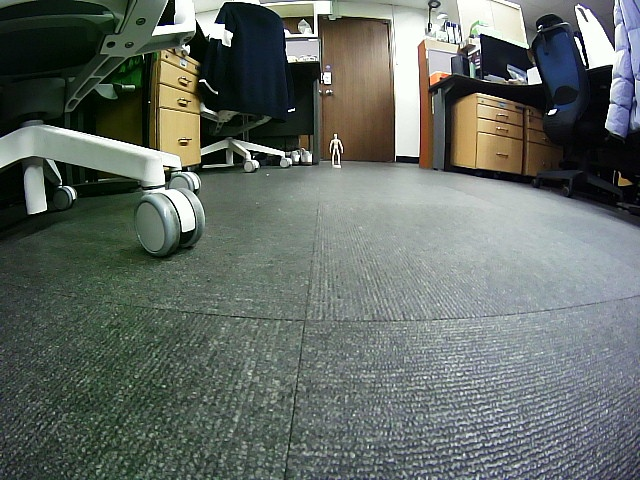person: (328, 133, 344, 167)
